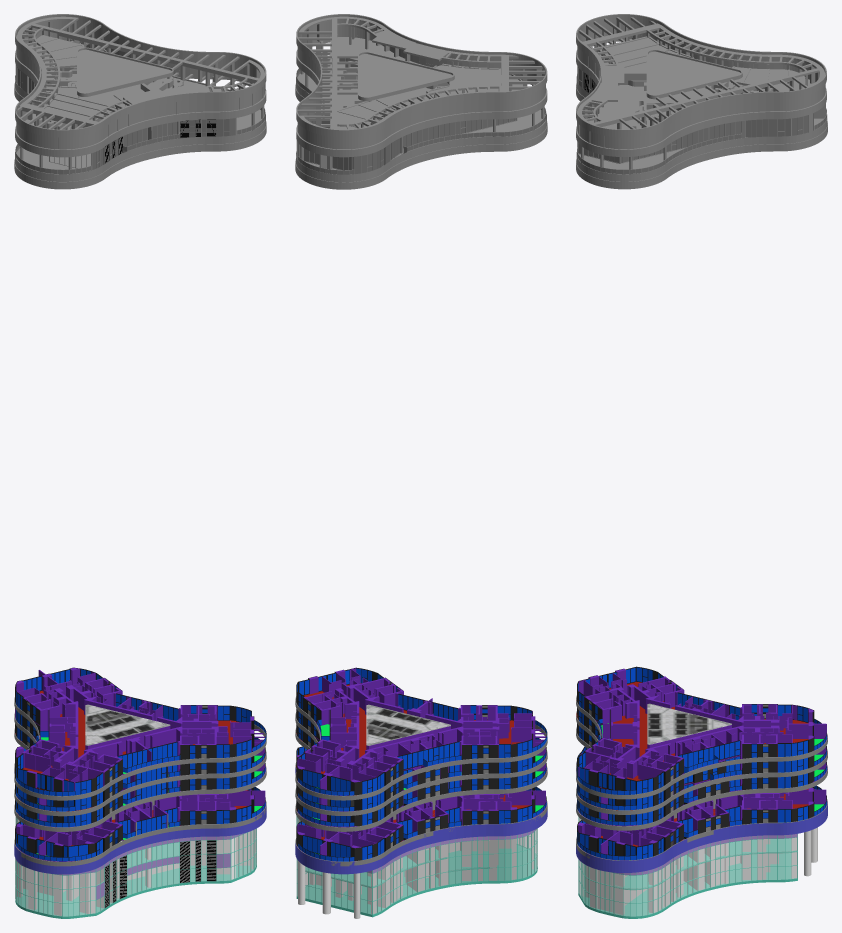
Rendered from Gindi_MainBuilding_js_5.fbx.
3 renders of one model, left to right at view 1: azimuth 30°, elevation 25°; view 2: azimuth 150°, elevation 25°; view 3: azimuth 270°, elevation 25°, orthographic.
Visible parts, largest first — view 1: wall_roof, Glass, panel_roof, Wall, APT_21-43_Int_5P_001, Windows, Floor, APT_21-43_Int_5P, hall_21-43, glass_roof, APT_21-43_Int_3M_001, APT_5-7_Int_3Rs (+25 smaller); view 2: wall_roof, Glass, panel_roof, Wall, Floor, APT_21-43_Int_5R_001, glass_roof, APT_21-43_Int_5P_001, Windows, floor_roof, Decoration, APT_5-7_Int_4Rw (+21 smaller); view 3: wall_roof, Glass, panel_roof, Wall, APT_21-43_Int_5P, APT_21-43_Int_5R, Floor, glass_roof, Windows, Decoration, floor_roof, hall_21-43 (+21 smaller).
Boxes of the visible parts, x1,y1,x2,y2 form: wall_roof: (14,14,266,189); Glass: (15,817,256,916); panel_roof: (15,21,265,181); Wall: (16,818,255,915); APT_21-43_Int_5P_001: (14,746,107,800); Windows: (15,817,256,916); Floor: (15,842,256,918); APT_21-43_Int_5P: (198,705,266,762); hall_21-43: (78,704,170,757); glass_roof: (15,43,265,174); APT_21-43_Int_3M_001: (133,726,215,769); APT_5-7_Int_3Rs: (38,827,115,866); wall_roof: (295,14,547,189); Glass: (296,816,537,914); panel_roof: (296,21,546,182); Wall: (297,818,533,918); Floor: (296,822,537,917); APT_21-43_Int_5R_001: (319,742,418,800); glass_roof: (296,68,546,174); APT_21-43_Int_5P_001: (478,705,547,762); Windows: (296,816,537,914); floor_roof: (296,36,545,177); Decoration: (295,767,547,874); APT_5-7_Int_4Rw: (319,821,406,866); wall_roof: (576,14,827,189); Glass: (578,817,797,916); panel_roof: (576,21,827,181); Wall: (579,818,817,914); APT_21-43_Int_5P: (576,751,677,799); APT_21-43_Int_5R: (711,724,827,765); Floor: (578,838,797,918); glass_roof: (577,67,826,174); Windows: (578,817,797,916); Decoration: (576,763,827,872); floor_roof: (577,41,827,174); hall_21-43: (639,703,731,756).
Size of the model in its own units: 5193 by 16410 by 4741.
